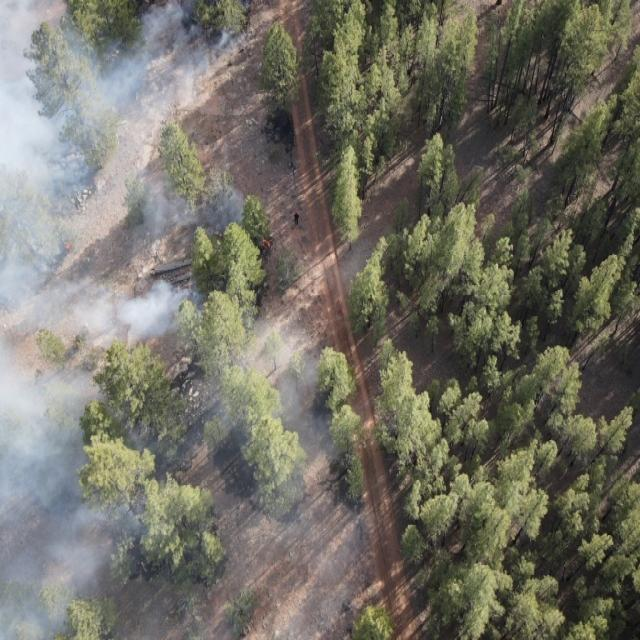fire: (258, 237, 275, 254), (64, 237, 74, 255)
smoke: (0, 0, 254, 174), (0, 365, 154, 640), (0, 173, 104, 365), (218, 311, 338, 453), (126, 175, 253, 237), (105, 279, 203, 346)
